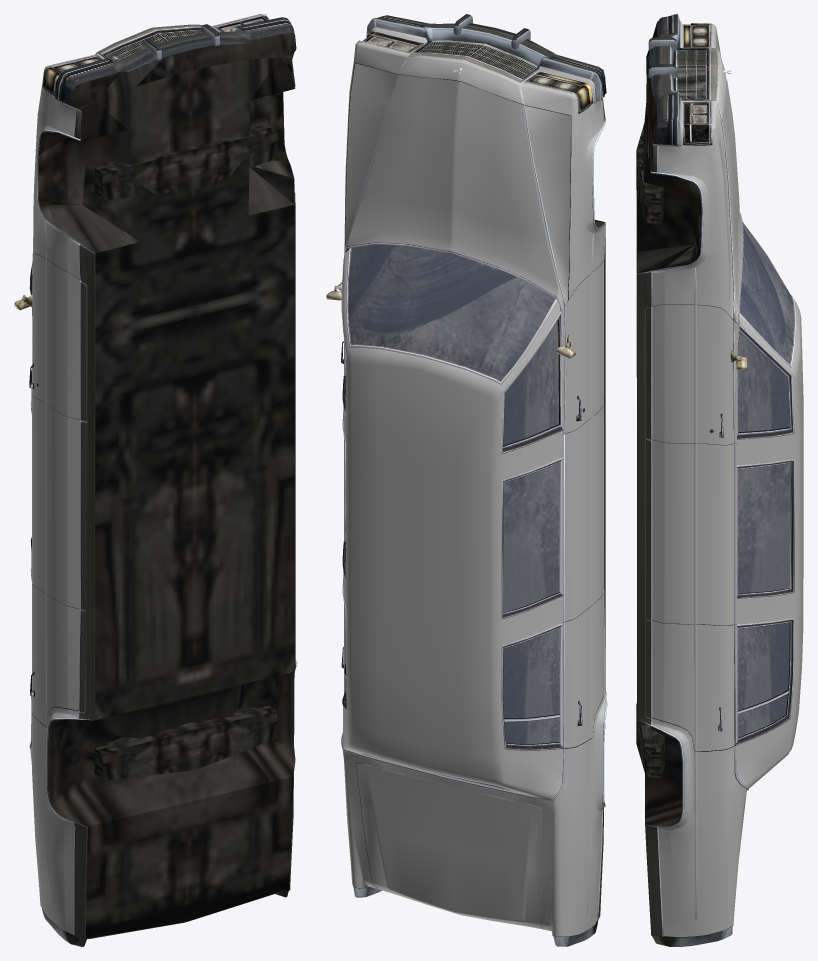
File: GrandstarLimo.FBX
The picture shows the model from 3 angles, left to right: view 1: azimuth 30°, elevation 25°; view 2: azimuth 150°, elevation 25°; view 3: azimuth 270°, elevation 25°; orthographic projection. The views are drawn at different scales.
Visible parts, largest first — view 1: EngBay, Misc, Grandstar_P, Doorpf_P, Doorpr_P, pfmisc, prmisc; view 2: Vinyl_EC, Hood_P, Grandstar_P, Trunk_P, Glassfront, EngBay, GlassPass, Doorpf_P, Doorpr_P, glasspr, glasspf, Hoodmisc (+3 smaller); view 3: Grandstar_P, EngBay, Doordf_P, Vinyl_EC, Doordr_P, Misc, GlassDrv, Glassfront, glassdr, glassdf, Hood_P, dfmisc (+3 smaller).
Part boxes in pixels (x1,y1,x2,y2): EngBay: (29, 14, 297, 946); Misc: (38, 57, 294, 780); Grandstar_P: (30, 14, 296, 935); Doorpf_P: (32, 253, 80, 419); Doorpr_P: (32, 584, 80, 726); pfmisc: (14, 265, 87, 421); prmisc: (30, 584, 86, 725); Vinyl_EC: (342, 250, 563, 799); Hood_P: (345, 63, 570, 310); Grandstar_P: (342, 27, 606, 936); Trunk_P: (356, 764, 542, 929); Glassfront: (348, 244, 554, 381); EngBay: (341, 14, 607, 946); GlassPass: (503, 463, 559, 612); Doorpf_P: (561, 262, 603, 433); Doorpr_P: (561, 594, 604, 747); glasspr: (503, 629, 559, 718); glasspf: (503, 321, 558, 445); Hoodmisc: (343, 63, 570, 311); Grandstar_P: (646, 21, 747, 936); EngBay: (636, 14, 796, 946); Doordf_P: (652, 304, 738, 444); Vinyl_EC: (736, 300, 803, 788); Doordr_P: (652, 620, 736, 751); Misc: (636, 50, 708, 777); GlassDrv: (737, 463, 790, 593); Glassfront: (739, 222, 794, 364); glassdr: (737, 622, 789, 710); glassdf: (737, 331, 790, 432); Hood_P: (718, 45, 743, 323); dfmisc: (646, 306, 792, 443).
Bounding box in the file's own units: 205 × 704 × 126.
